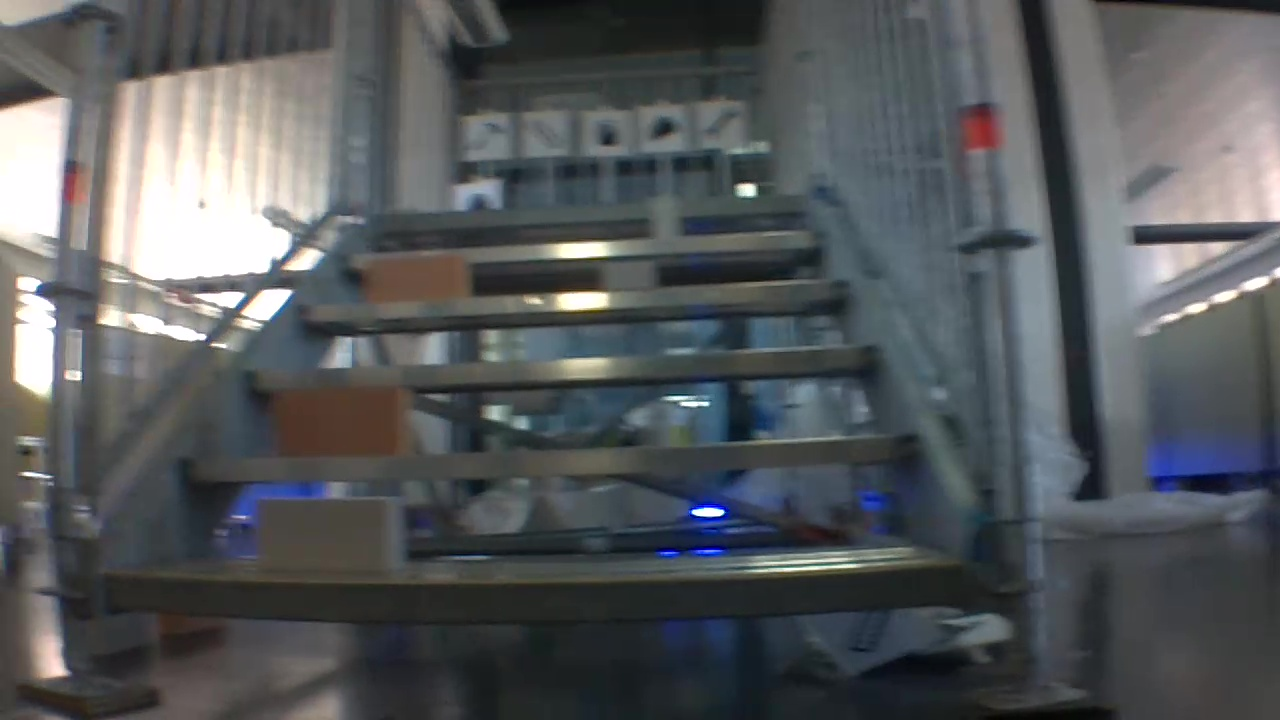brick: (257, 498, 401, 571), (277, 390, 408, 456), (371, 258, 471, 299), (604, 262, 657, 288), (649, 195, 678, 238)
bucket: (589, 116, 624, 150)
edge: (106, 566, 969, 625), (184, 433, 919, 476), (252, 343, 878, 388), (298, 279, 847, 319), (345, 231, 826, 262), (373, 194, 805, 227)
hammer: (461, 117, 508, 156)
stairs: (18, 0, 1121, 714)
steps: (97, 189, 978, 641)
